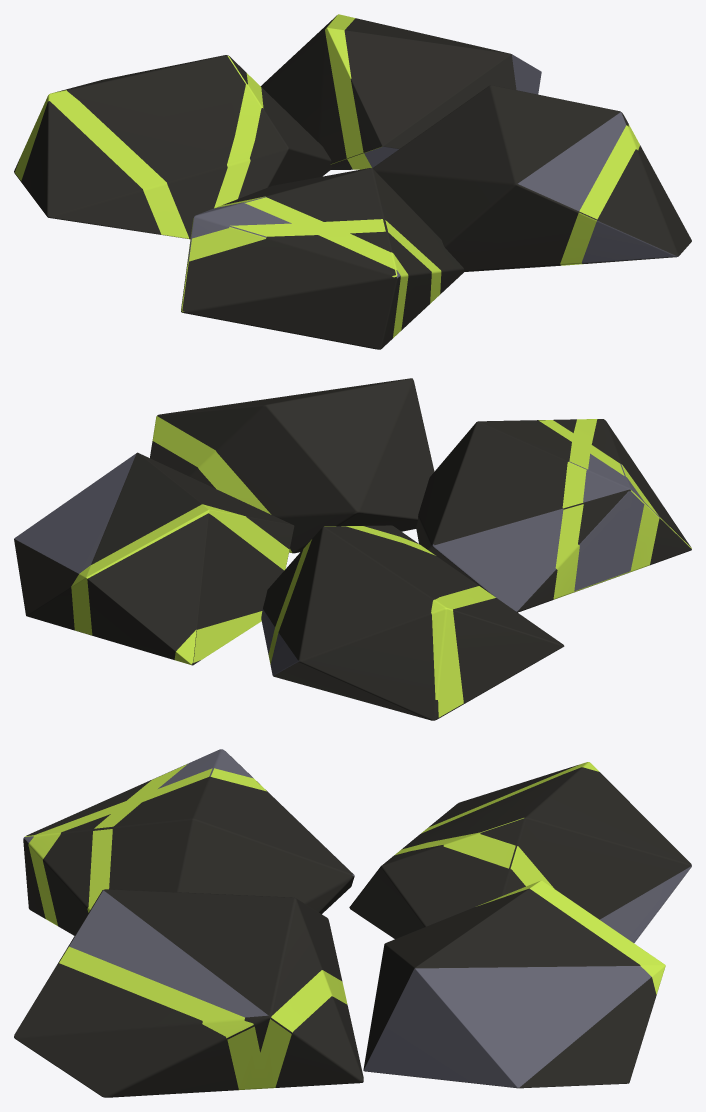
The model's file is minerai_uraninite_1.glb.
The picture shows the model from 3 angles, top to bottom: view 1: azimuth 30°, elevation 25°; view 2: azimuth 150°, elevation 25°; view 3: azimuth 270°, elevation 25°; orthographic projection. The views are drawn at different scales.
Visible parts, largest first — view 1: minerai_pechblende.004, minerai_autunite.004, minerai_charbon_brillant.008; view 2: minerai_pechblende.004, minerai_autunite.004, minerai_charbon_brillant.008; view 3: minerai_pechblende.004, minerai_charbon_brillant.008, minerai_autunite.004.
Part boxes in pixels (bbox=[...]): minerai_pechblende.004: bbox=[14, 15, 691, 349]; minerai_autunite.004: bbox=[14, 14, 639, 338]; minerai_charbon_brillant.008: bbox=[161, 54, 678, 278]; minerai_pechblende.004: bbox=[14, 378, 691, 720]; minerai_autunite.004: bbox=[71, 416, 691, 717]; minerai_charbon_brillant.008: bbox=[14, 453, 659, 675]; minerai_pechblende.004: bbox=[14, 756, 691, 1097]; minerai_charbon_brillant.008: bbox=[14, 749, 691, 1088]; minerai_autunite.004: bbox=[25, 762, 665, 1089].
Size of the model in its own units: 0.5364 by 0.1205 by 0.541.
